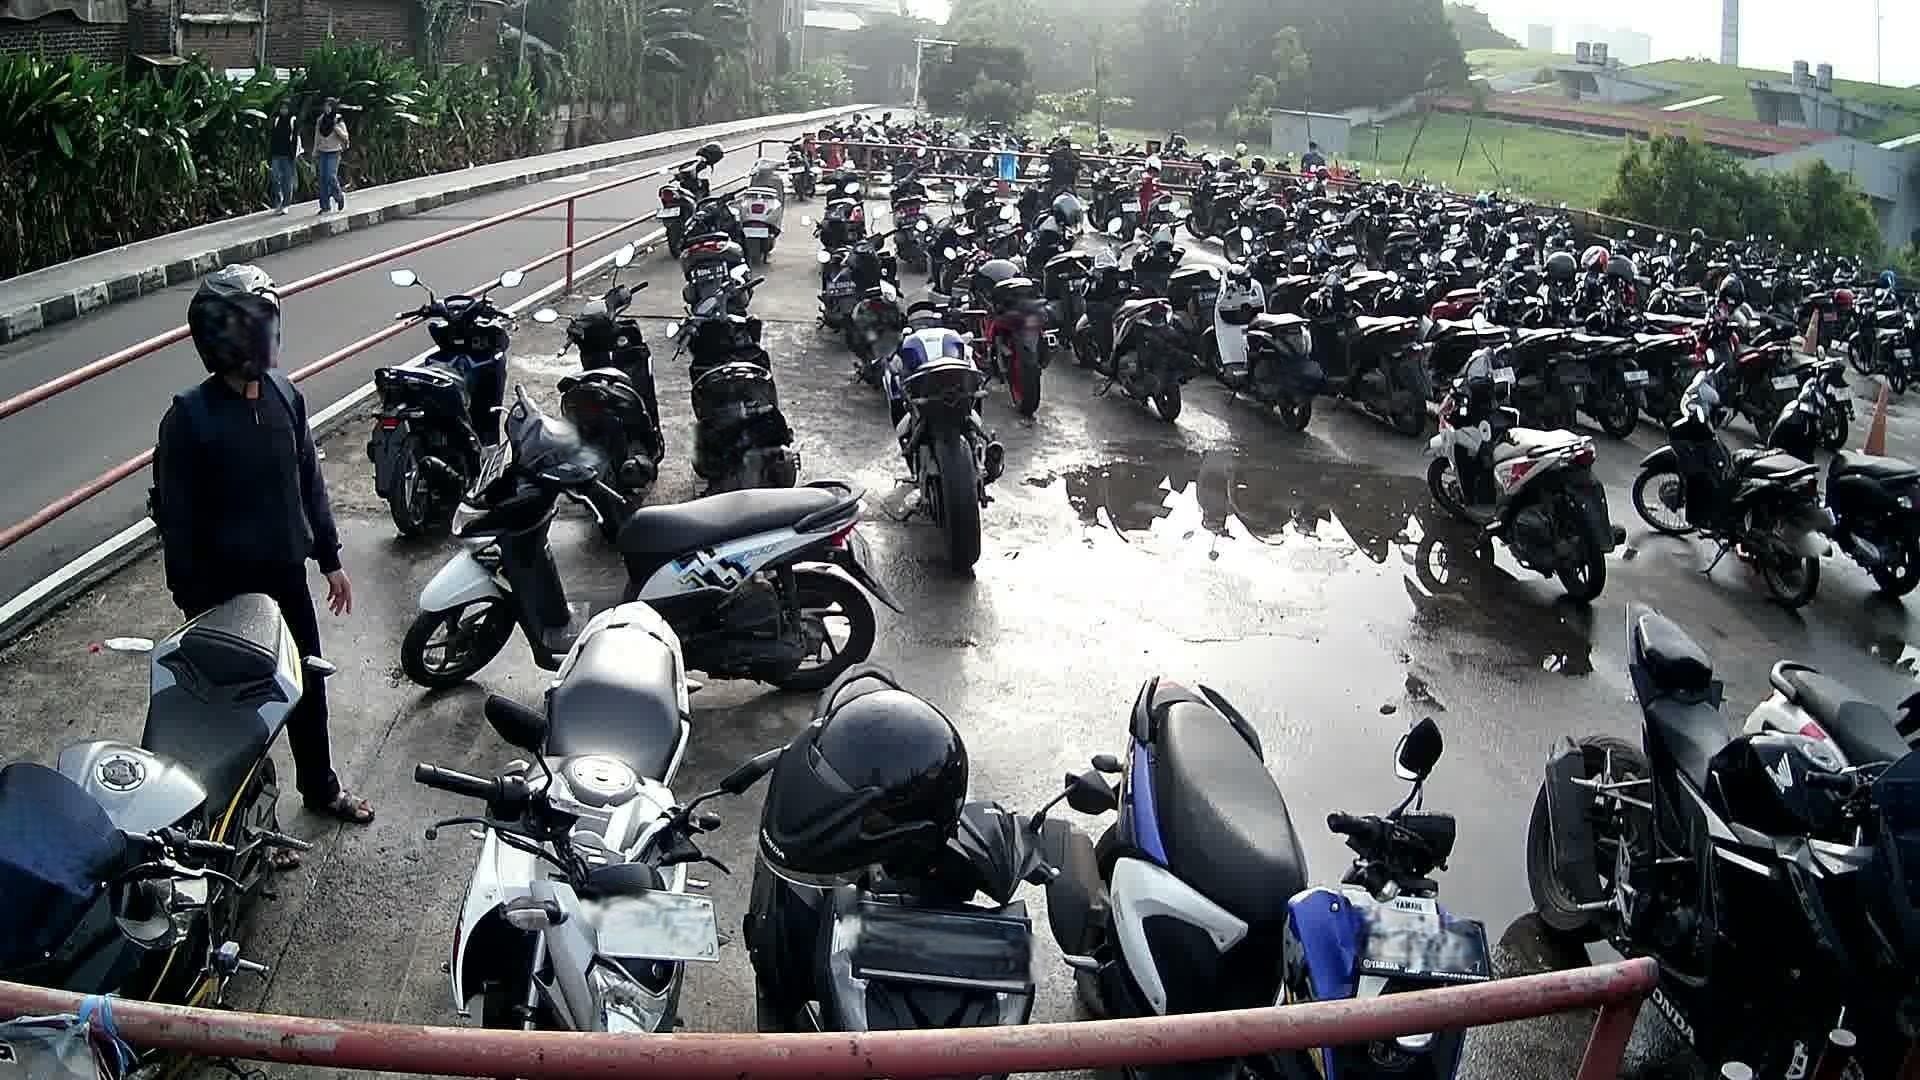motorcycle: (1042, 669, 1515, 1080), (1524, 599, 1920, 1080), (0, 589, 343, 1080), (402, 382, 905, 699), (413, 596, 735, 1034), (737, 653, 1063, 1029), (1427, 322, 1627, 604), (1638, 349, 1836, 609), (365, 261, 526, 546), (535, 245, 669, 541), (877, 274, 1009, 568), (1766, 355, 1920, 600), (667, 261, 800, 488), (1738, 651, 1920, 778)
